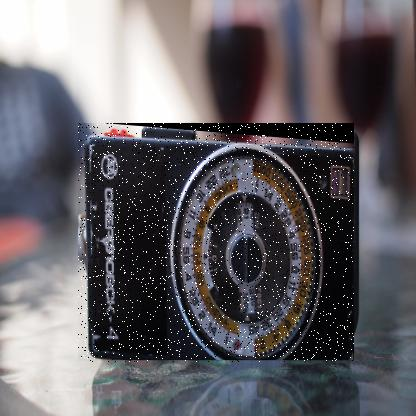Camera: (79, 125, 356, 365)
